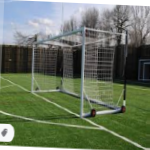goals: (31, 24, 124, 122)
